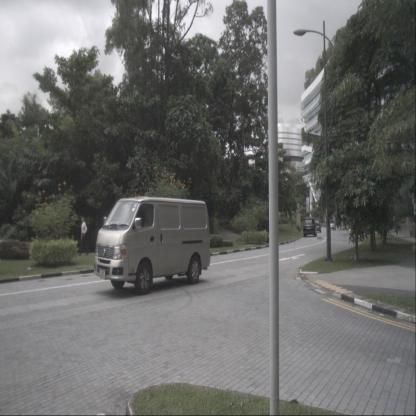human-pedestrian-adult: (79, 217, 89, 255)
vehicle-car: (94, 196, 211, 296), (303, 216, 317, 238), (312, 220, 322, 233), (328, 220, 336, 230)
